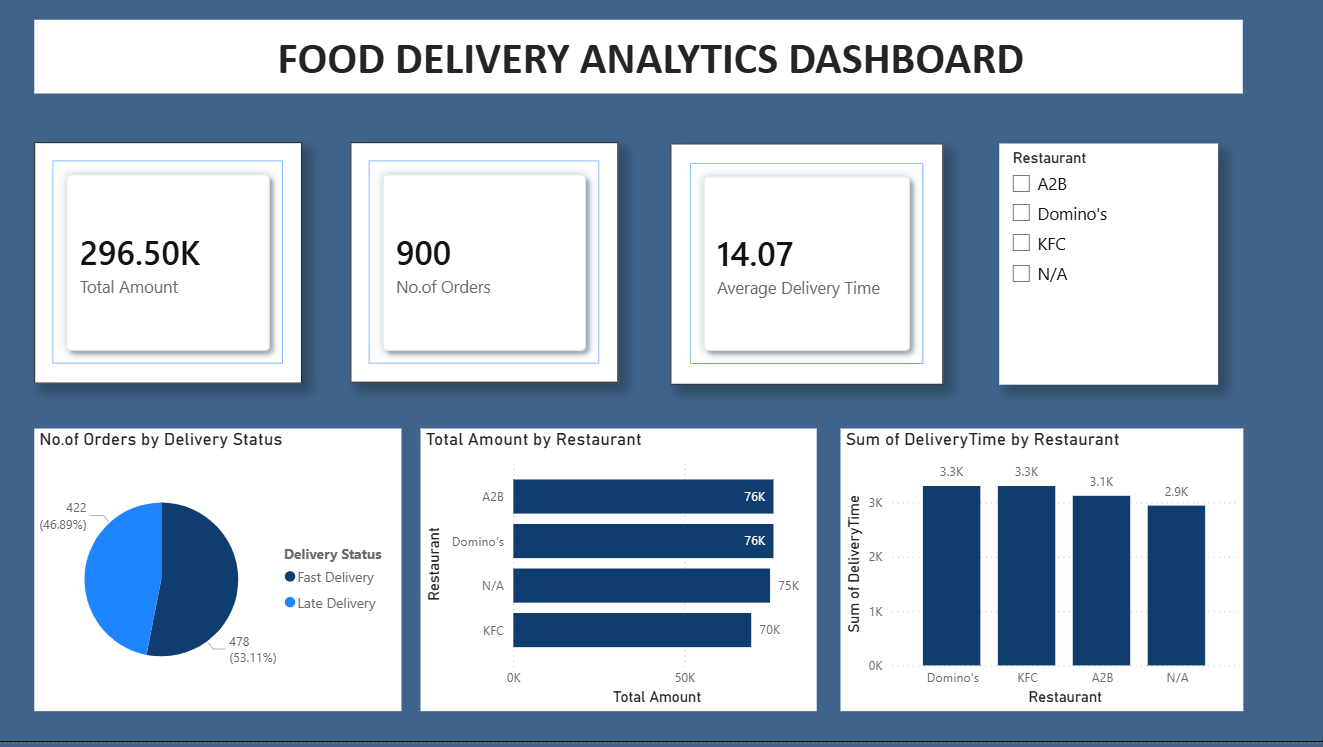

The page's visual inventory and layout, read from the dashboard file:
{"tool":"powerbi","page":{"name":"Page 1","canvas":[1280,720],"ordinal":0},"visuals":[{"type":"cardVisual","fields":{"Data":["Dirty_FoodDelivery_Analytics_900.Total Amount"]},"box":[35,141.2,258.2,232.8],"z":0},{"type":"cardVisual","fields":{"Data":["Dirty_FoodDelivery_Analytics_900.No.of Orders"]},"box":[340.5,141.4,258.3,232.3],"z":1000},{"type":"cardVisual","fields":{"Data":["Dirty_FoodDelivery_Analytics_900.Average Delivery Time"]},"box":[649.1,142.4,263,232.8],"z":2000},{"type":"textbox","box":[35,22.9,1166.6,71.2],"z":3000},{"type":"slicer","fields":{"Values":["Dirty_FoodDelivery_Analytics_900.Restaurant"]},"box":[966.4,142.4,211.1,232.8],"z":4000},{"type":"pieChart","fields":{"Category":["Dirty_FoodDelivery_Analytics_900.Delivery Status"],"Y":["Dirty_FoodDelivery_Analytics_900.No.of Orders"]},"box":[35,417.4,354.7,272.7],"z":5000},{"type":"clusteredBarChart","fields":{"Category":["Dirty_FoodDelivery_Analytics_900.Restaurant"],"Y":["Dirty_FoodDelivery_Analytics_900.Total Amount"]},"box":[407.8,417.4,382.4,272.7],"z":6000},{"type":"clusteredColumnChart","fields":{"Category":["Dirty_FoodDelivery_Analytics_900.Restaurant"],"Y":["Sum(Dirty_FoodDelivery_Analytics_900.DeliveryTime)"]},"box":[813.1,417.4,388.5,272.7],"z":7000}]}

Visuals, with their boxes in screenshot pixels (x1, y1, x2, y2), scaled from the page's 1280x720 canvas onto the 1323x747 screenshot:
cardVisual - Dirty_FoodDelivery_Analytics_900.Total Amount: l=36, t=146, r=303, b=388
cardVisual - Dirty_FoodDelivery_Analytics_900.No.of Orders: l=352, t=147, r=619, b=388
cardVisual - Dirty_FoodDelivery_Analytics_900.Average Delivery Time: l=671, t=148, r=943, b=389
textbox: l=36, t=24, r=1242, b=98
slicer - Dirty_FoodDelivery_Analytics_900.Restaurant: l=999, t=148, r=1217, b=389
pieChart - Dirty_FoodDelivery_Analytics_900.Delivery Status x Dirty_FoodDelivery_Analytics_900.No.of Orders: l=36, t=433, r=403, b=716
clusteredBarChart - Dirty_FoodDelivery_Analytics_900.Restaurant x Dirty_FoodDelivery_Analytics_900.Total Amount: l=421, t=433, r=817, b=716
clusteredColumnChart - Dirty_FoodDelivery_Analytics_900.Restaurant x Sum(Dirty_FoodDelivery_Analytics_900.DeliveryTime): l=840, t=433, r=1242, b=716
